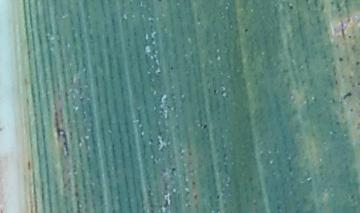tarspot: (342, 91, 352, 103), (333, 119, 341, 128), (169, 167, 177, 175), (333, 42, 341, 50), (212, 88, 219, 97), (337, 55, 344, 63), (242, 27, 249, 34), (346, 34, 353, 41), (192, 193, 198, 201), (348, 106, 354, 114), (333, 78, 339, 86), (355, 80, 360, 89), (202, 123, 208, 130), (287, 4, 294, 10), (354, 59, 360, 66), (215, 193, 220, 201), (168, 65, 174, 71), (190, 180, 197, 185), (304, 1, 309, 5), (156, 1, 164, 3)
